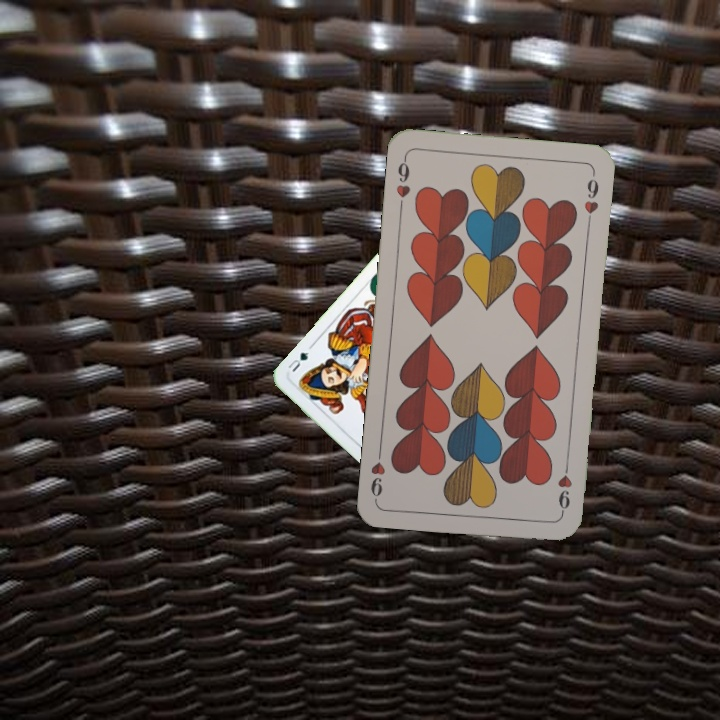H9: (392, 153, 413, 212), (554, 458, 574, 517)
